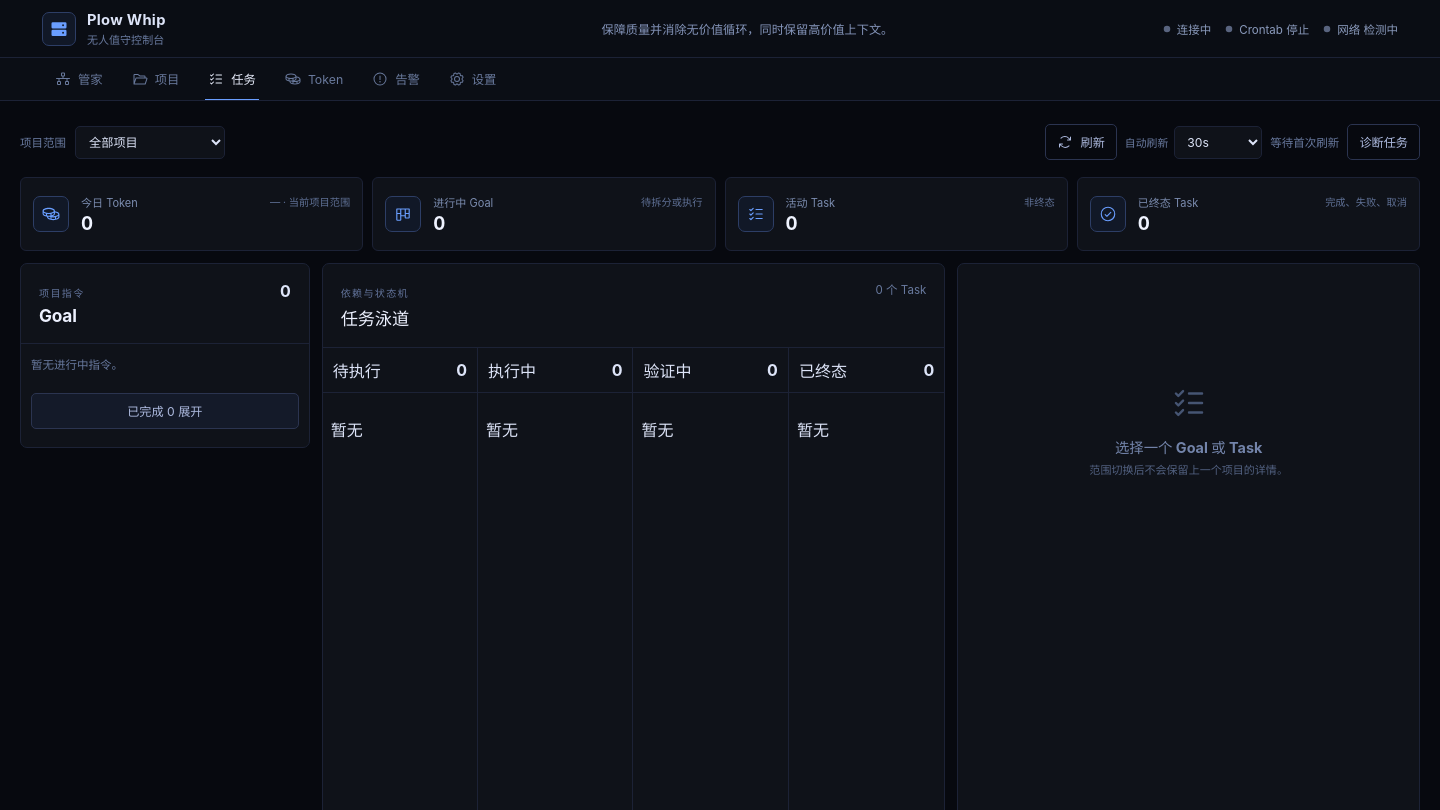
Test: shows day breakdown request failure state
The image size is (1440, 810).
Step 1. Click the button "Token" → [314, 79], box [272,58,356,100]
(page scrolled)
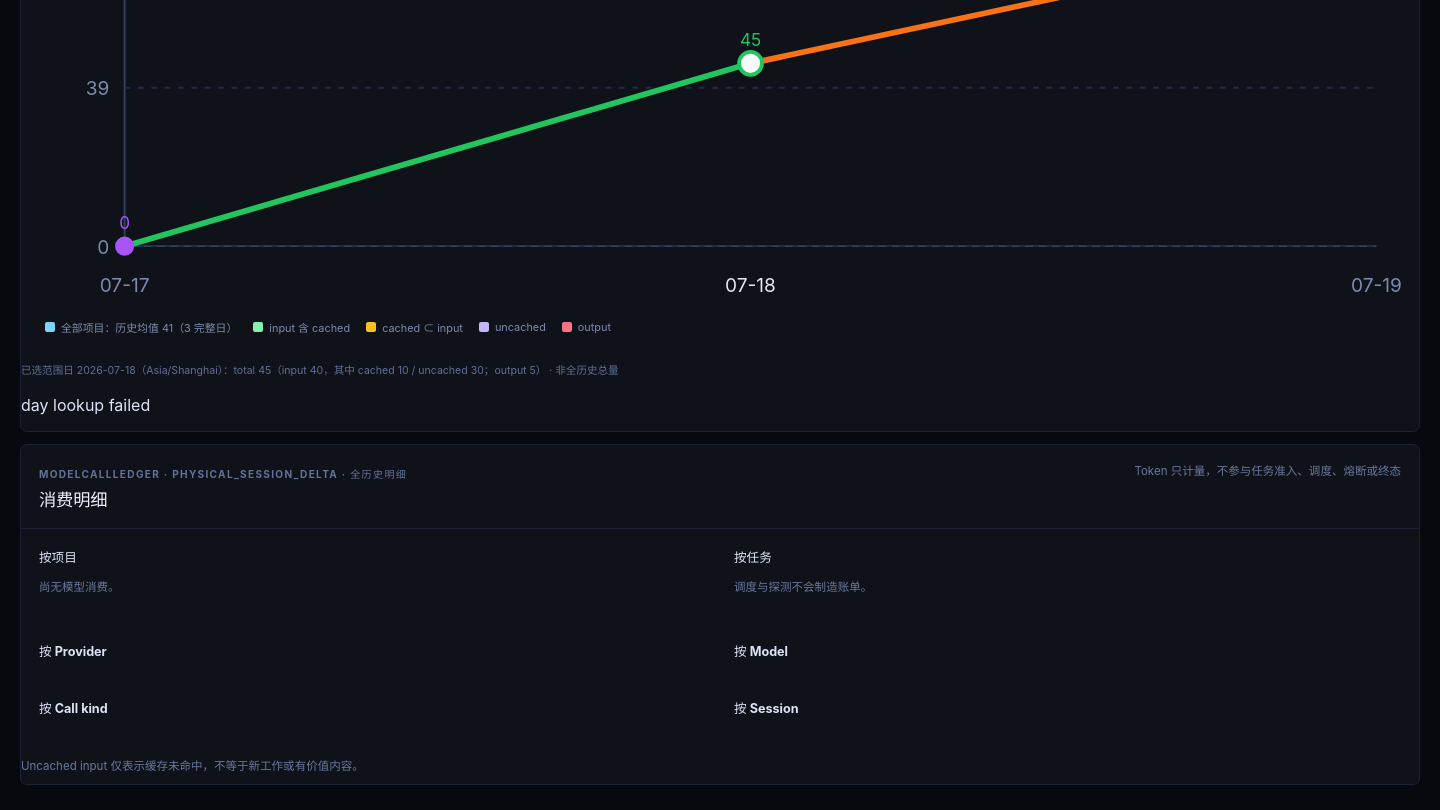
Now the element with test id "token-day-error" reads "day lookup failed", box [21,395,150,415]
